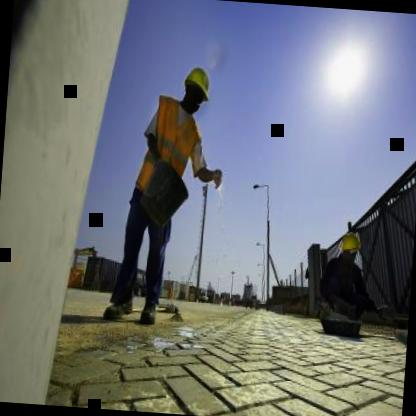helmet: (178, 62, 214, 119), (338, 228, 362, 272)
